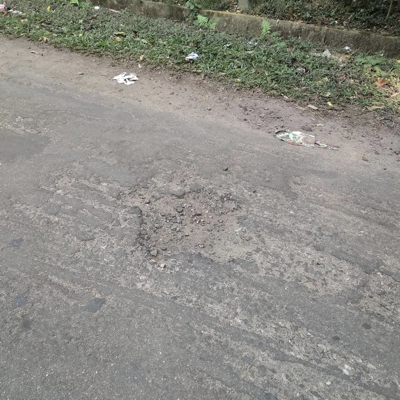pothole: (117, 185, 254, 265)
